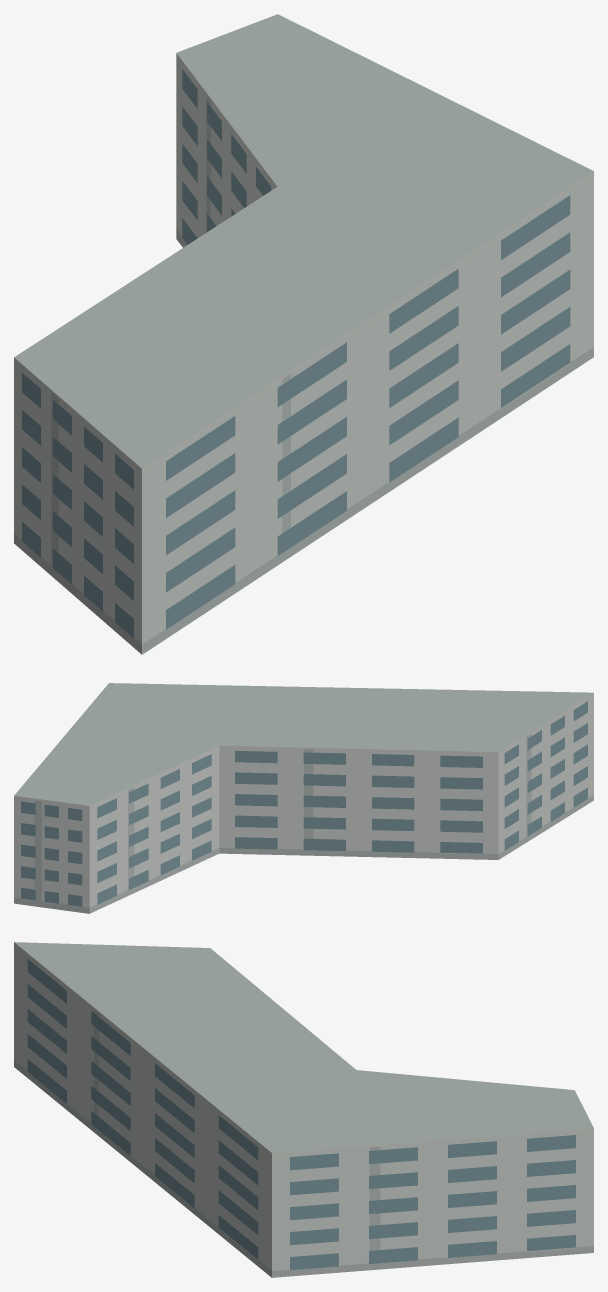
The model's file is residential-d4e7246d-87bb-4417-a951-b90aebbe23be.glb.
The picture shows the model from 3 angles, top to bottom: view 1: azimuth 30°, elevation 25°; view 2: azimuth 150°, elevation 25°; view 3: azimuth 270°, elevation 25°; orthographic projection. The views are drawn at different scales.
Visible parts, largest first — view 1: residential-d4e7246d-87bb-4417-a951-b90aebbe23be.tmp; view 2: residential-d4e7246d-87bb-4417-a951-b90aebbe23be.tmp; view 3: residential-d4e7246d-87bb-4417-a951-b90aebbe23be.tmp.
Boxes of the visible parts, bbox=[...] form: residential-d4e7246d-87bb-4417-a951-b90aebbe23be.tmp: bbox=[14, 14, 593, 654]; residential-d4e7246d-87bb-4417-a951-b90aebbe23be.tmp: bbox=[14, 683, 593, 913]; residential-d4e7246d-87bb-4417-a951-b90aebbe23be.tmp: bbox=[14, 942, 593, 1277].
Size of the model in its own units: 55.25 by 15.25 by 64.2.
